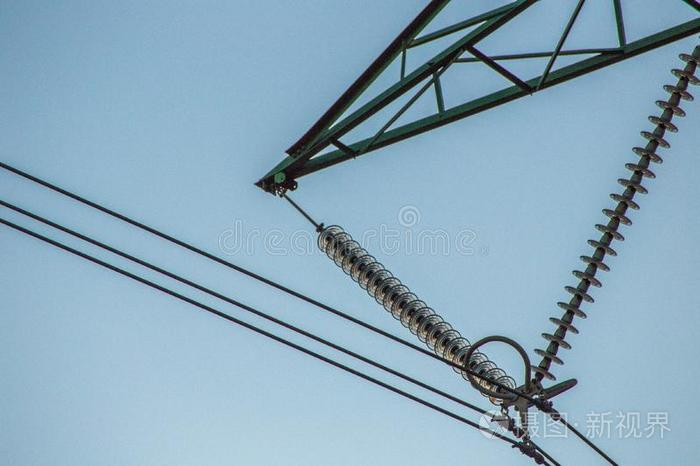insulator: (531, 47, 700, 375), (317, 222, 508, 400)
